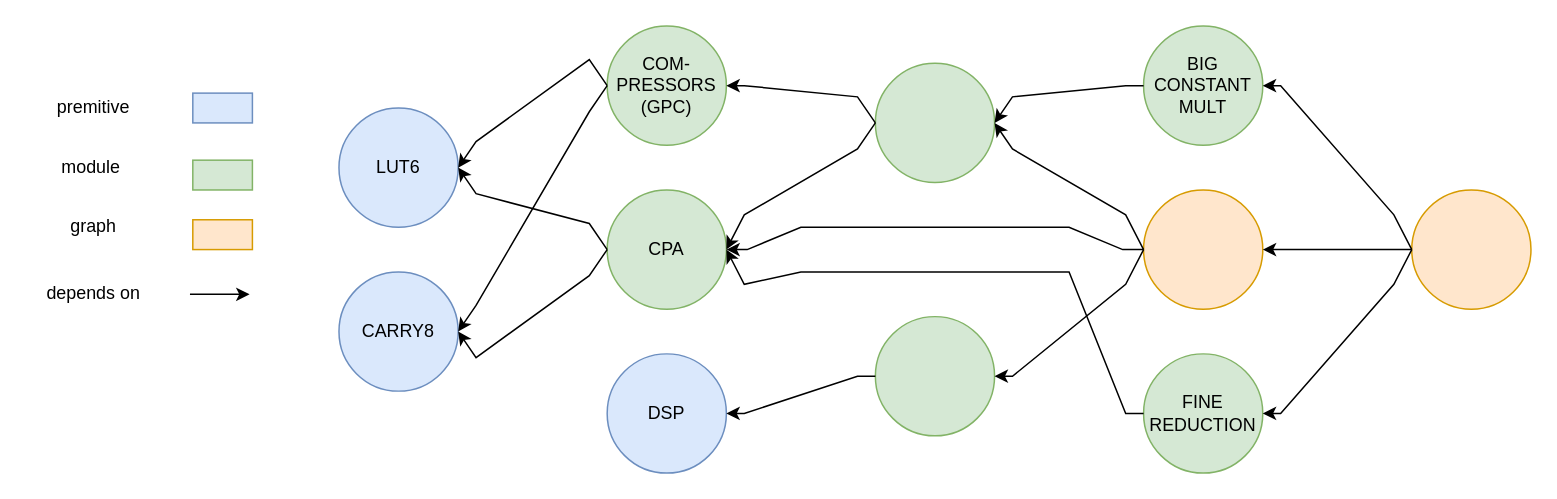
Image size: 1557x499. Some labels were removed from this diagram. Here are the shapes that lost their labels. From the top down, the centre of each, then its label:
the point at 934,122: COM- PRESSOR TREE (CSA)
the point at 1202,248: KARATSUBA MULT
the point at 1470,248: BARRETT MODULAR MULT
the point at 934,375: MULTS
